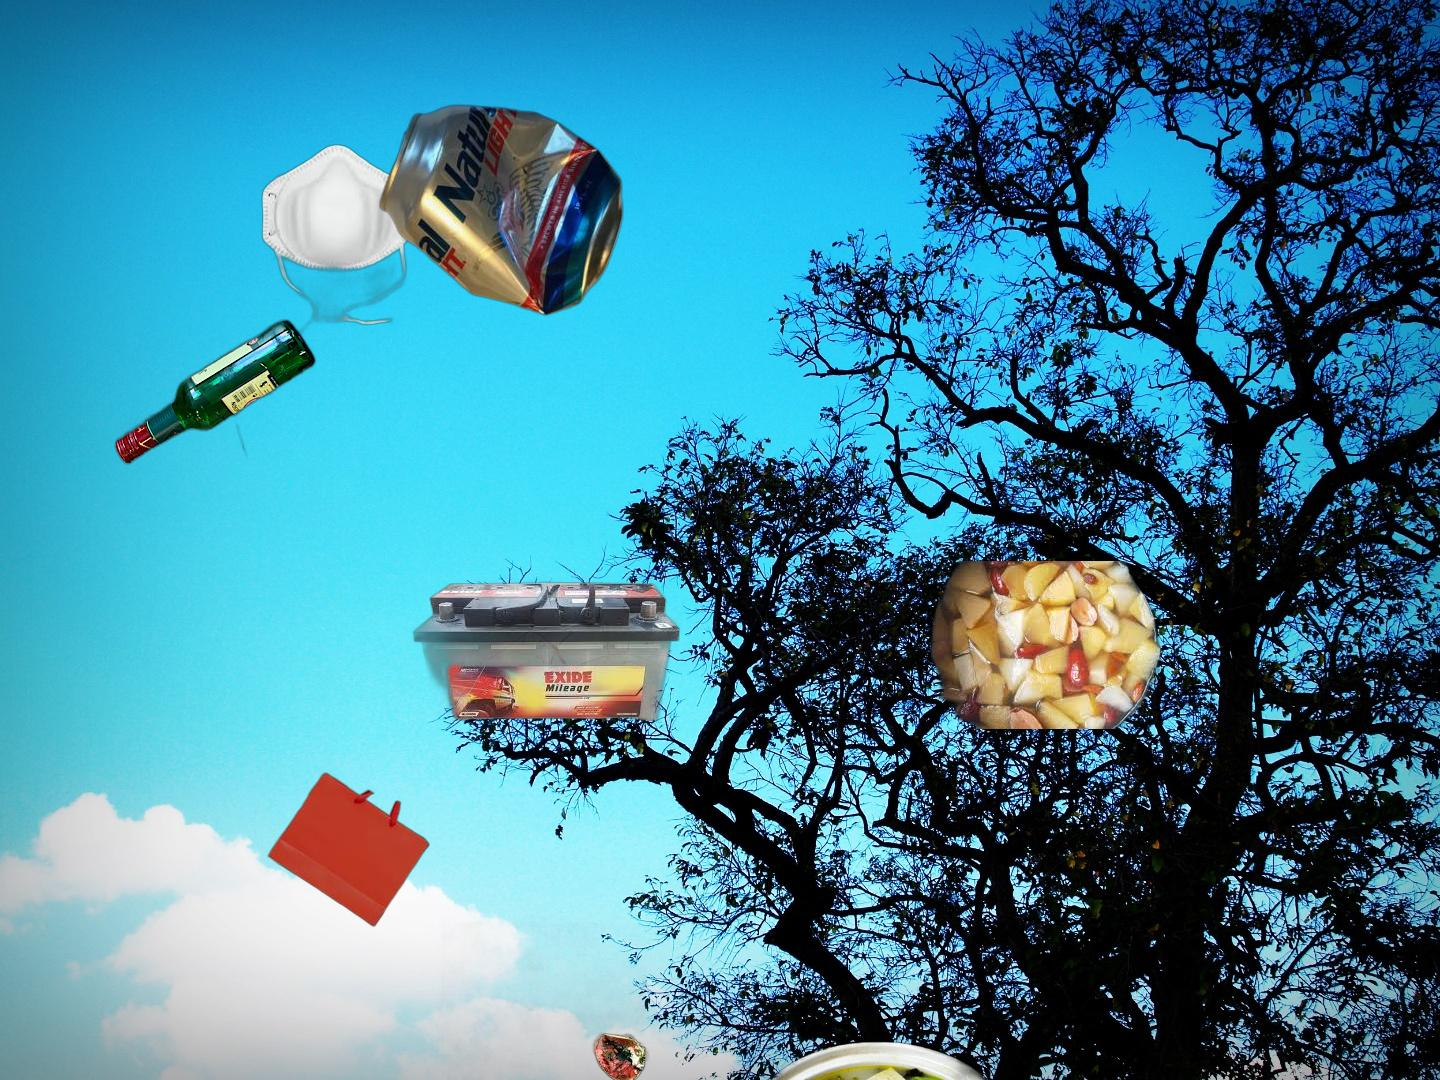battery: (410, 577, 685, 751)
biological: (927, 562, 1164, 729), (434, 916, 652, 1080), (730, 1039, 1040, 1080)
glass: (111, 314, 320, 470)
metal-cans: (375, 101, 628, 319)
paper-bag: (266, 770, 431, 929)
trash: (231, 142, 424, 347)
